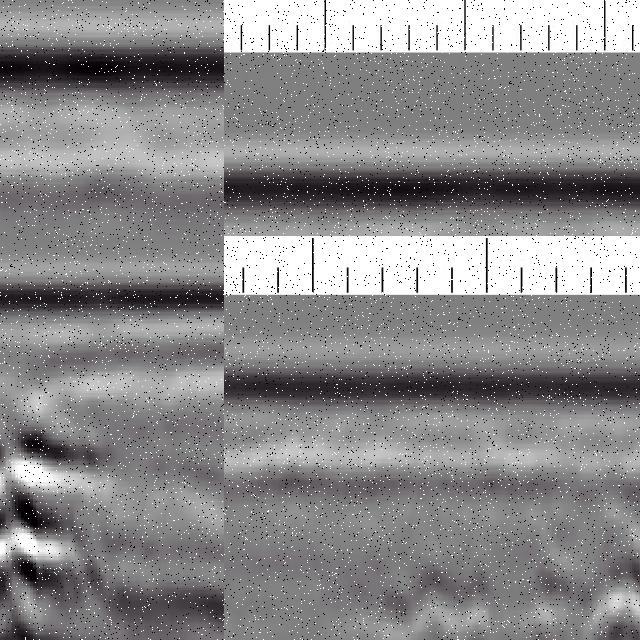loose: (386, 521, 640, 640), (1, 407, 110, 640)
